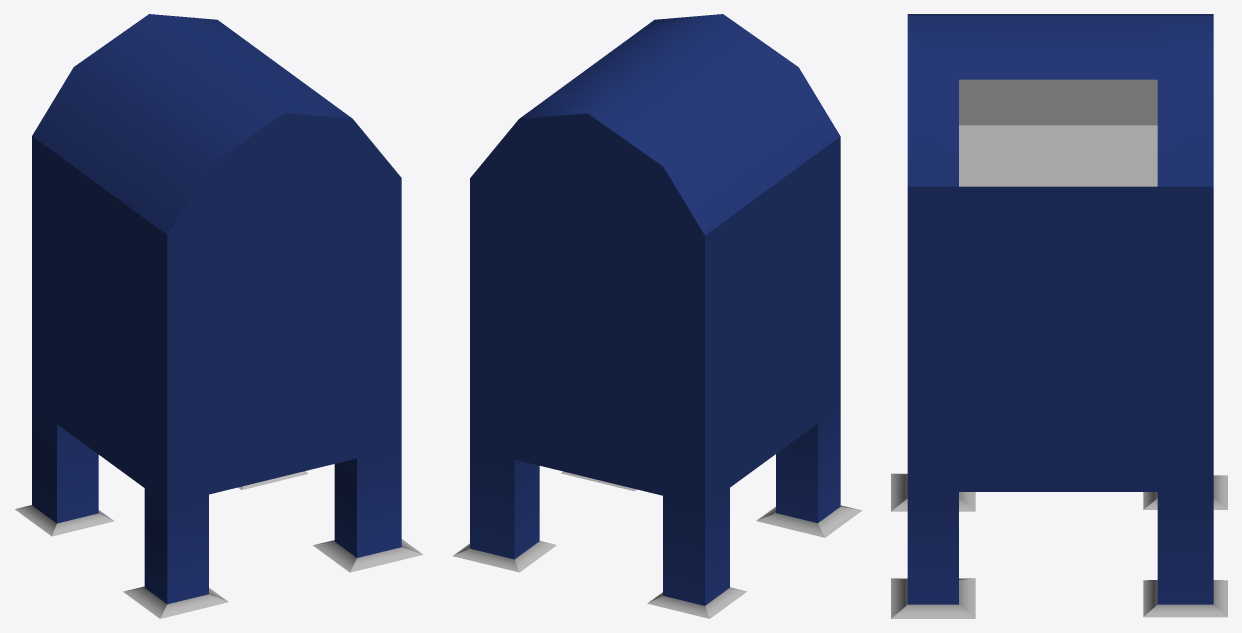
The model's file is Mailbox.fbx.
The picture shows the model from 3 angles, left to right: view 1: azimuth 30°, elevation 25°; view 2: azimuth 150°, elevation 25°; view 3: azimuth 270°, elevation 25°; orthographic projection. The views are drawn at different scales.
Visible parts, largest first — view 1: pCube1; view 2: pCube1; view 3: pCube1.
Boxes of the visible parts, x1,y1,x2,y2 form: pCube1: (15, 14, 422, 618); pCube1: (452, 14, 862, 618); pCube1: (891, 14, 1227, 618).
Size of the model in its own units: 2.25 by 3.82 by 2.2.
